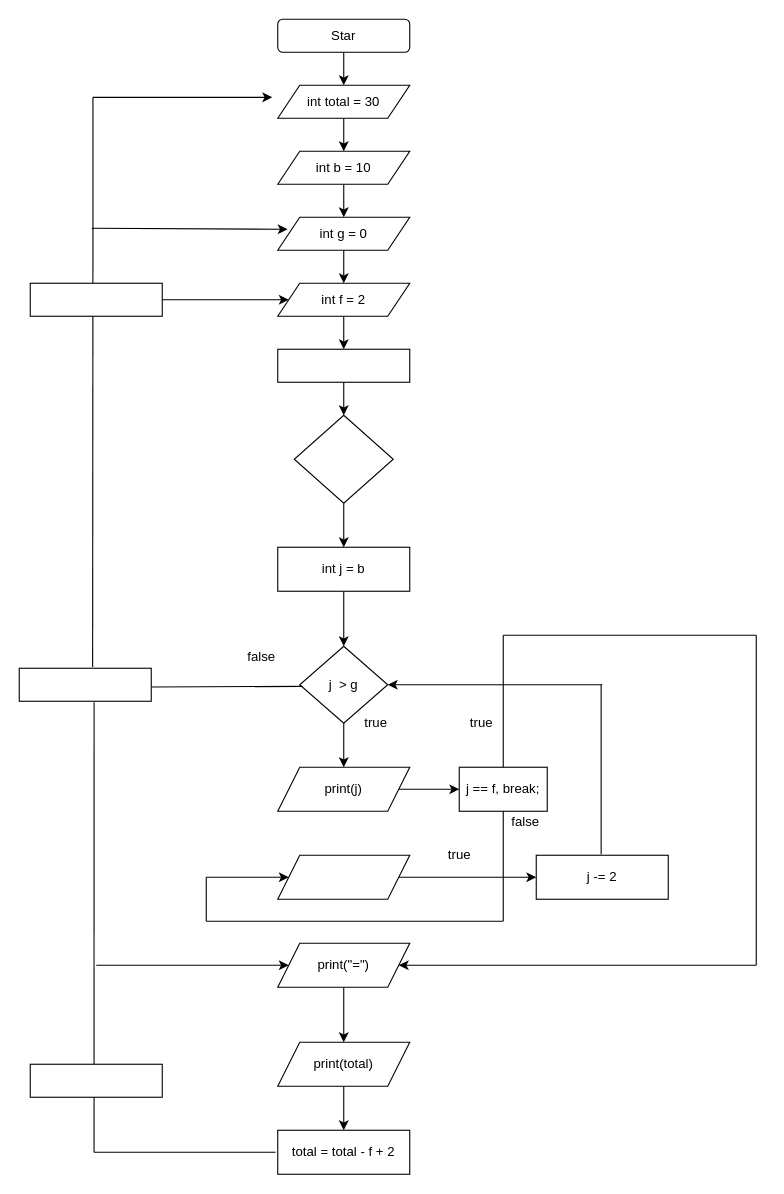
Image size: 784x1194. Some labels were removed from this diagram. The shapes that lost their labels are listed below. From the top down, each one's centre as x and y in pixels, then its label:
[95,299]: f = f + 2
[343,365]: a = 5
[343,458]: a >= 1
[84,684]: g = g + 2
[343,876]: print("+")
[95,1080]: a--
